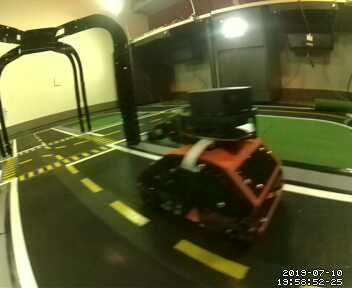pheeno: (136, 84, 285, 249)
